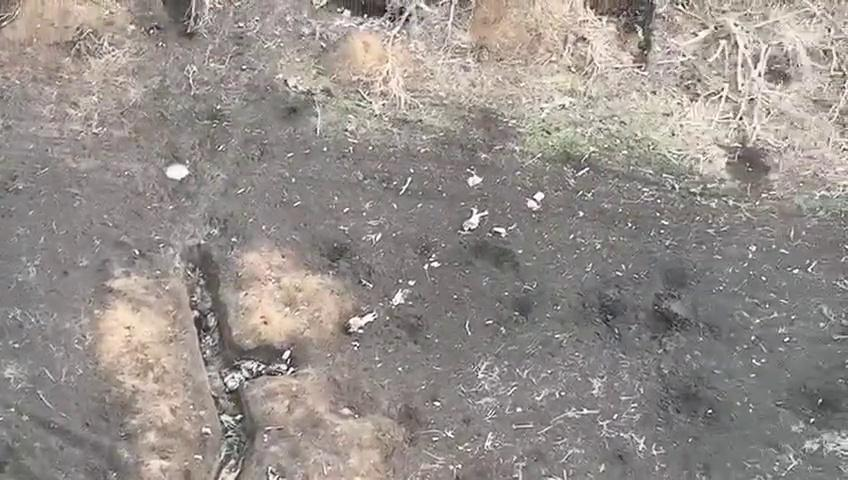trench: (167, 244, 296, 480)
